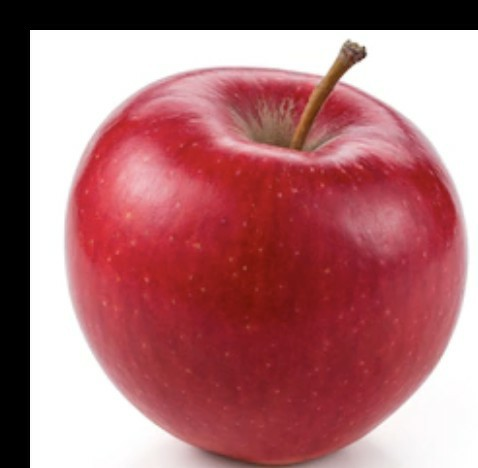fresh_apple: (64, 67, 472, 466)
